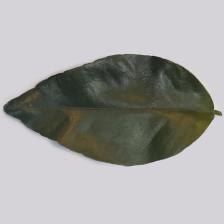healthy: (40, 67, 188, 160)
